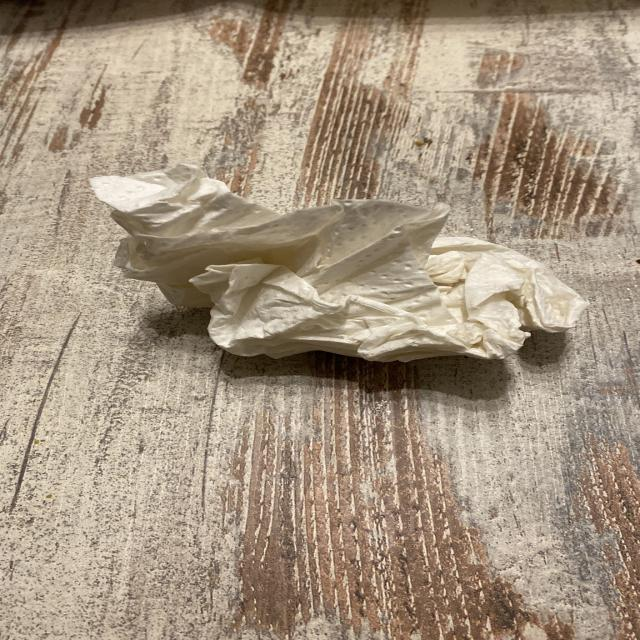kitchen paper: (91, 154, 592, 368)
